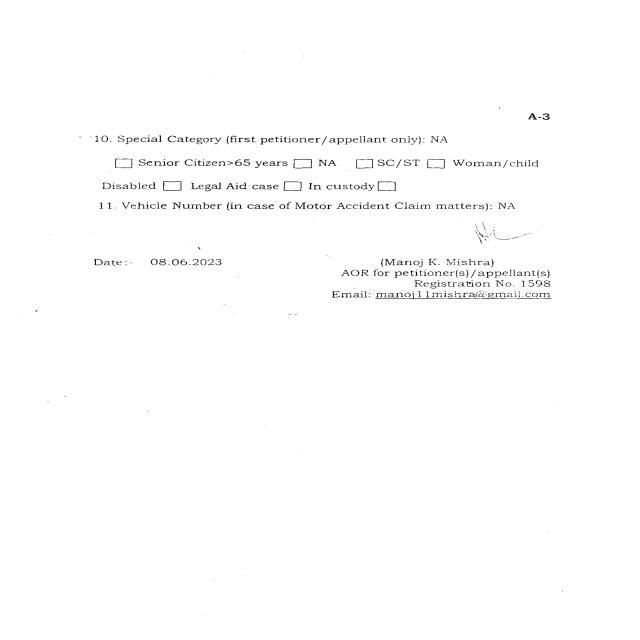page-number: (458, 79, 636, 156)
